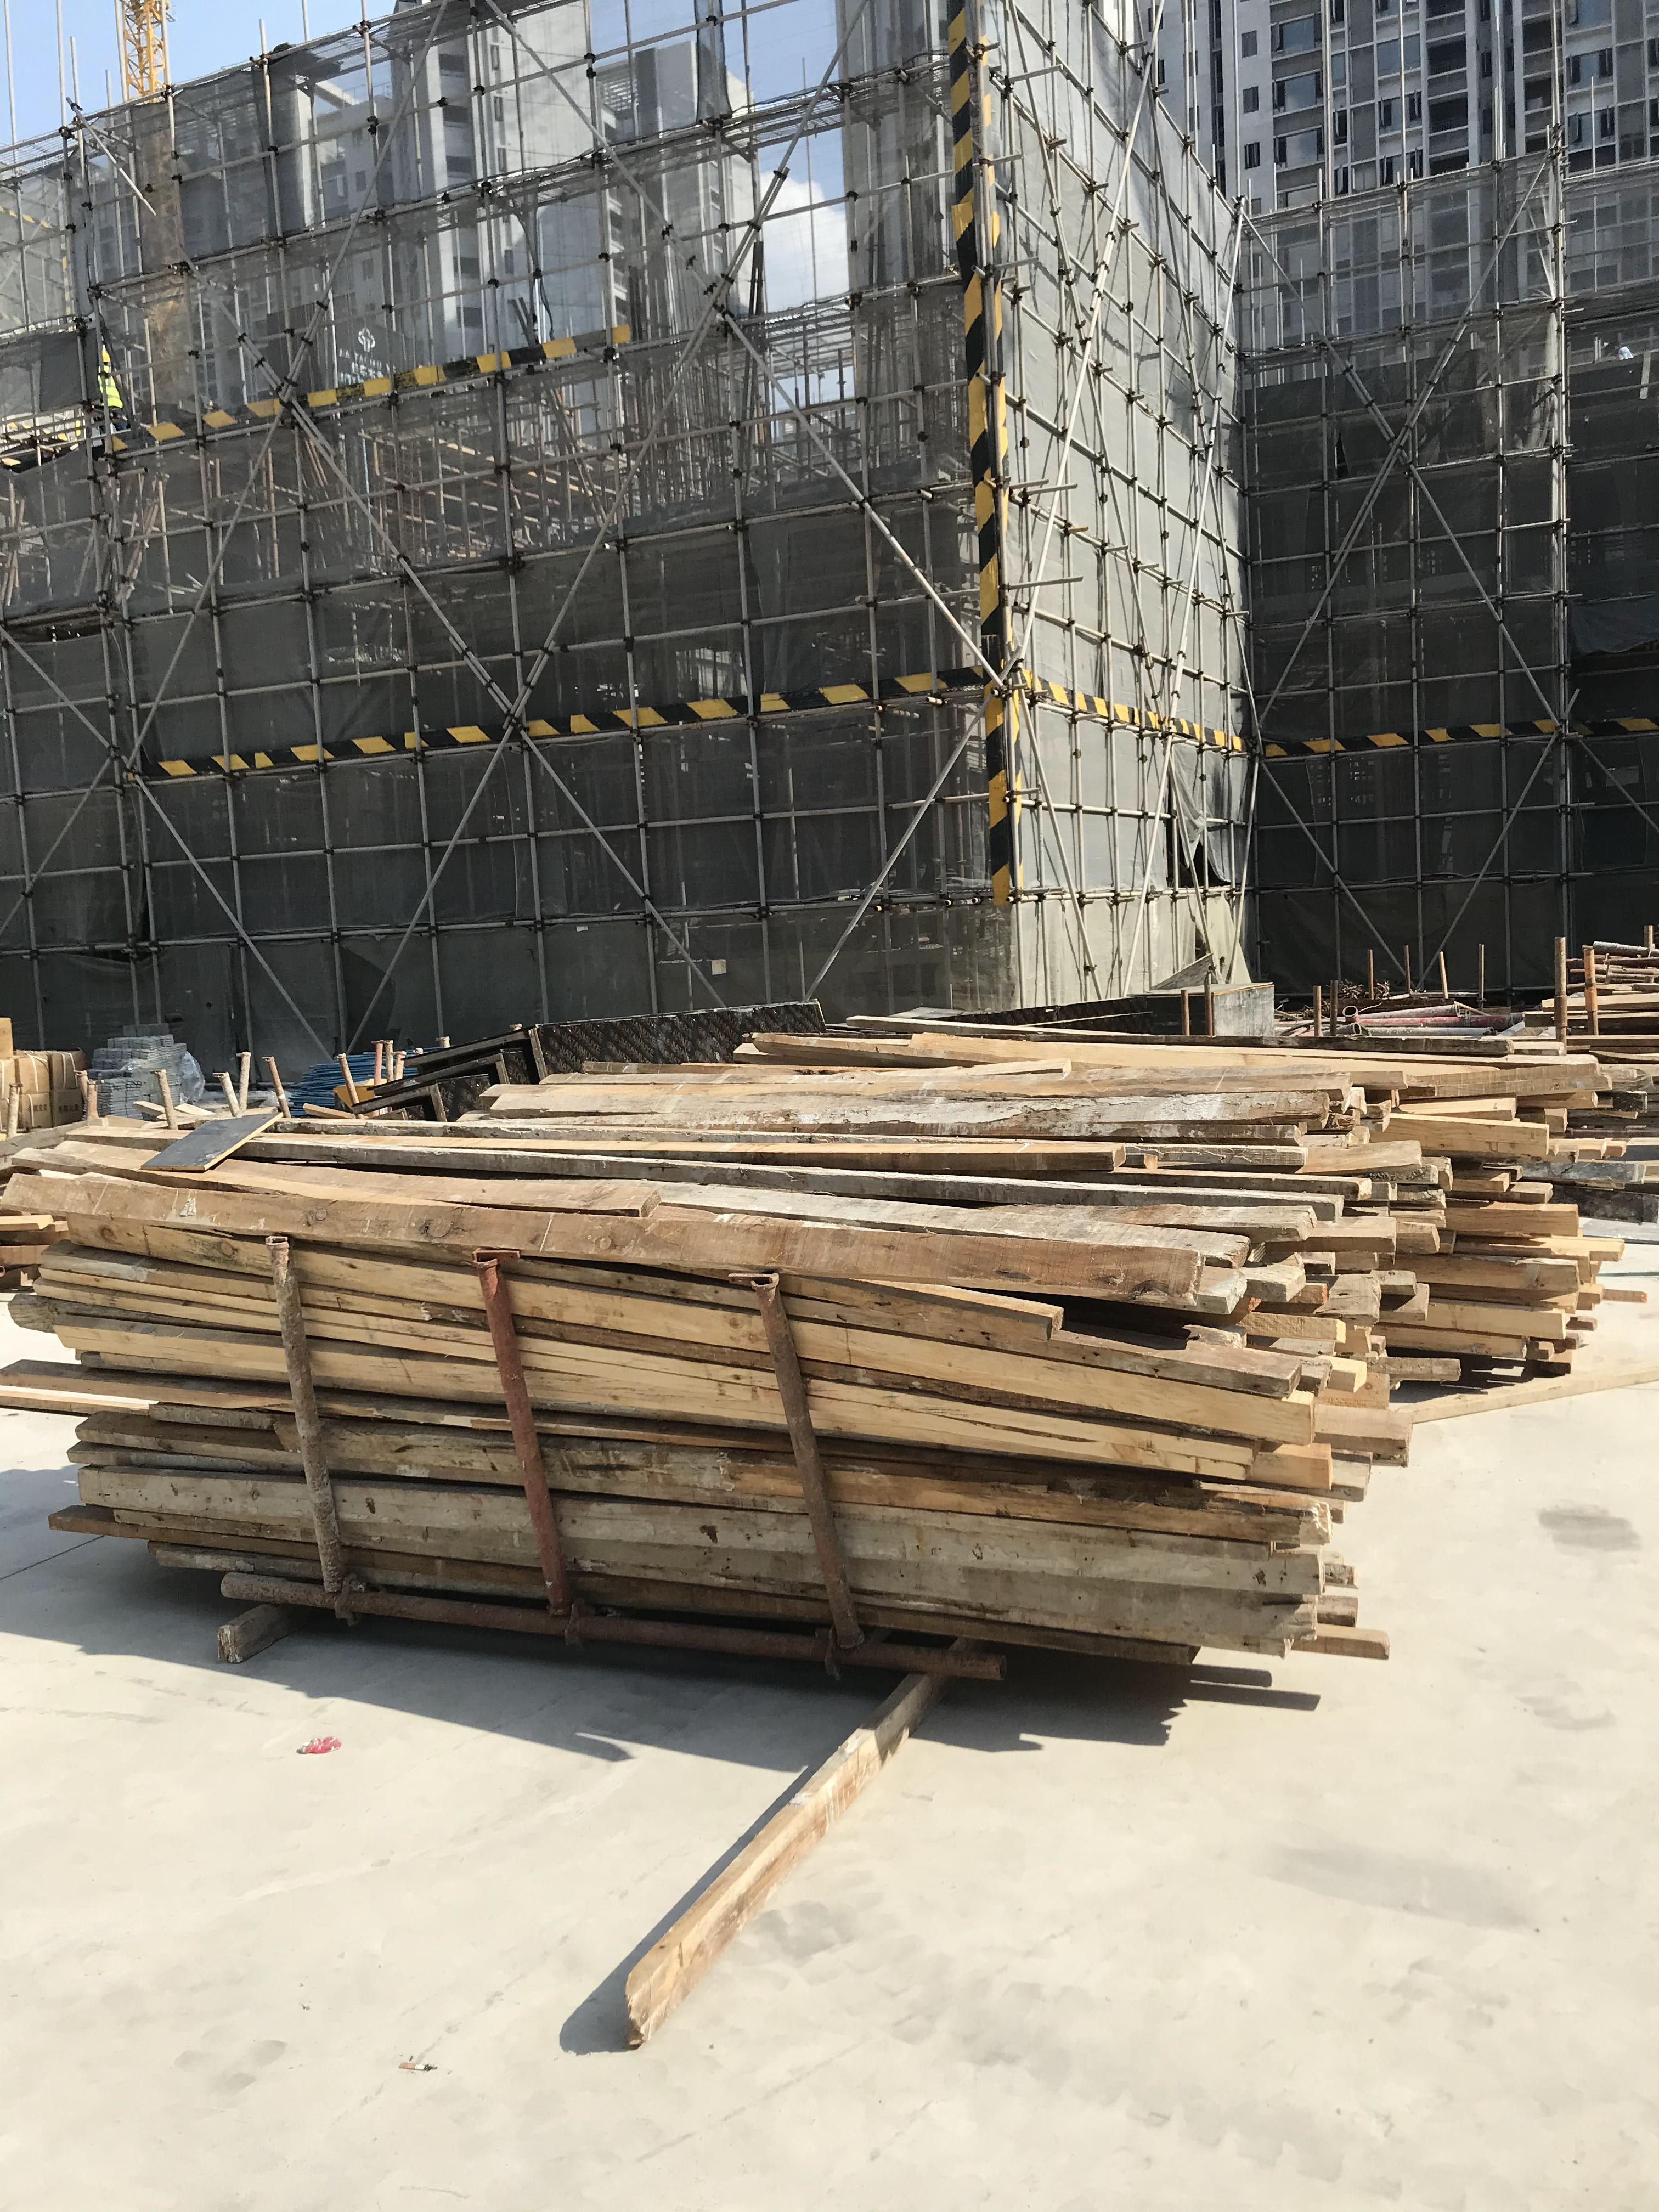wood: (1021, 61, 1659, 1658)
